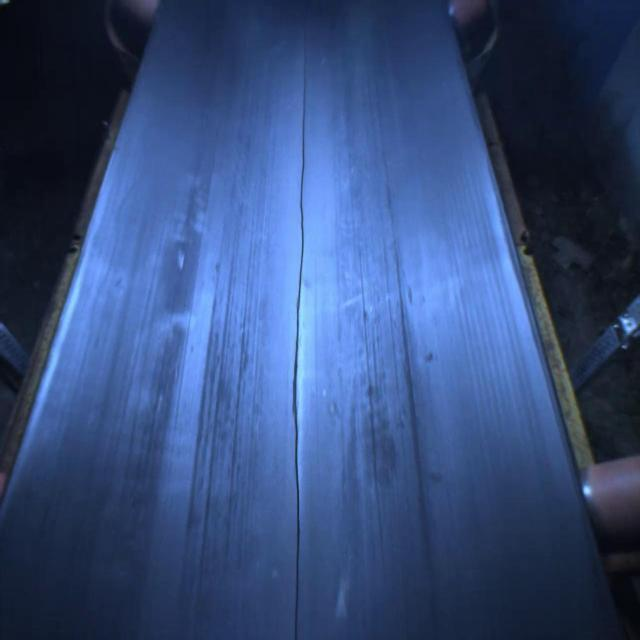Tear: (282, 26, 316, 640)
